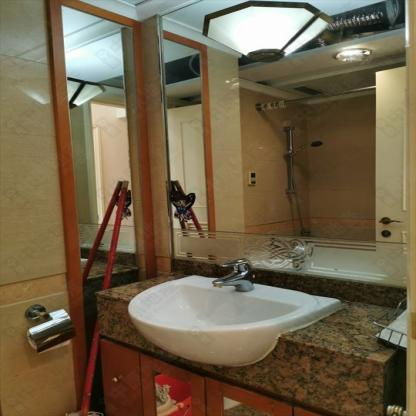Faucet: (212, 259, 258, 290)
Toilet Sink: (126, 274, 341, 366)
